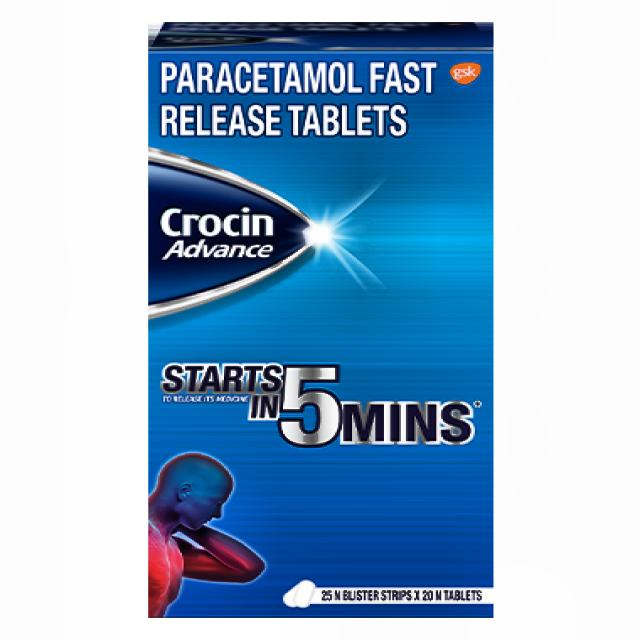Crocin: (147, 157, 313, 313)
